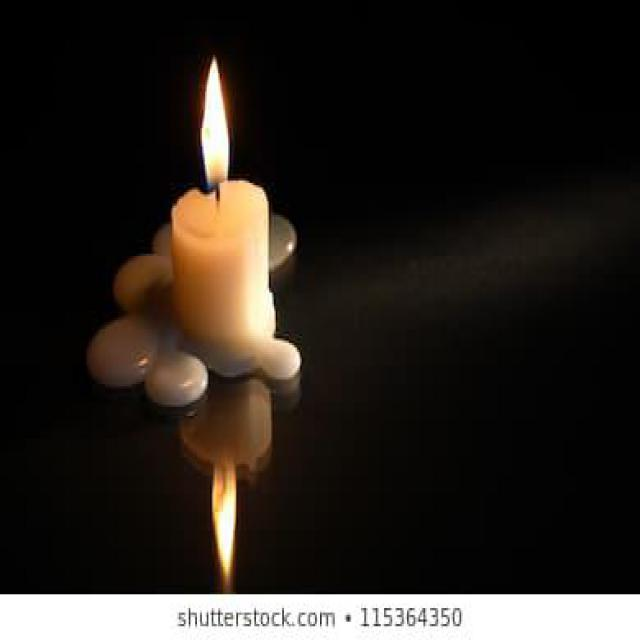Fire: (200, 52, 230, 192)
